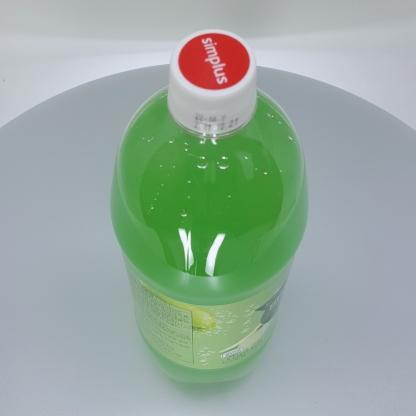----------------: (110, 29, 309, 383)
